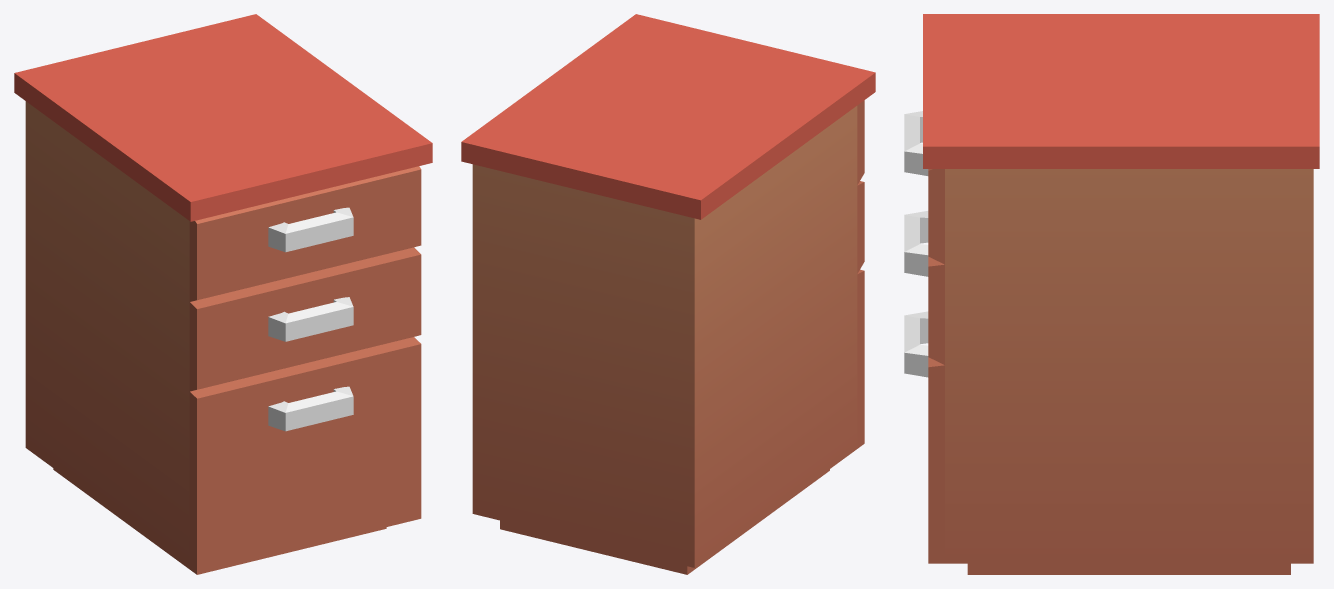
File: cabinet1.fbx
3 views of the same model, side by side, from view 1: azimuth 30°, elevation 25°; view 2: azimuth 150°, elevation 25°; view 3: azimuth 270°, elevation 25° (orthographic). The views are drawn at different scales.
Parts seen in each view (by area): view 1: cabinet1; view 2: cabinet1; view 3: cabinet1.
Part boxes in pixels (box(x1,y1,x2,y2)): cabinet1: box(14, 14, 432, 574); cabinet1: box(461, 14, 875, 574); cabinet1: box(904, 14, 1319, 574).
Bounding box in the file's own units: 63.08 × 98.13 × 83.4.
1 material, 1 textured.
